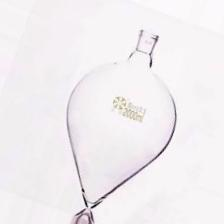Pear shaped flask: (47, 18, 185, 201)
